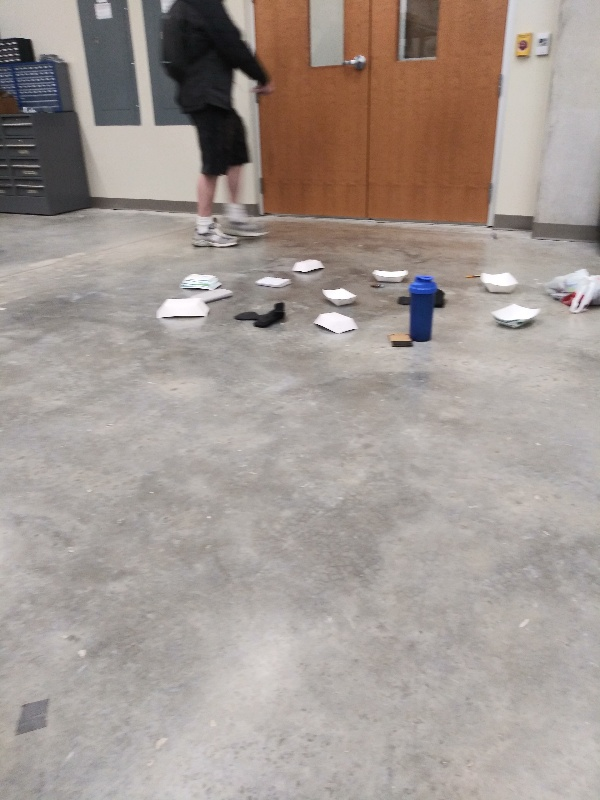plate: (149, 294, 213, 322), (490, 301, 547, 329), (477, 267, 523, 296), (310, 311, 360, 335), (319, 284, 361, 310), (286, 254, 333, 275), (176, 271, 222, 291), (367, 266, 412, 286)
